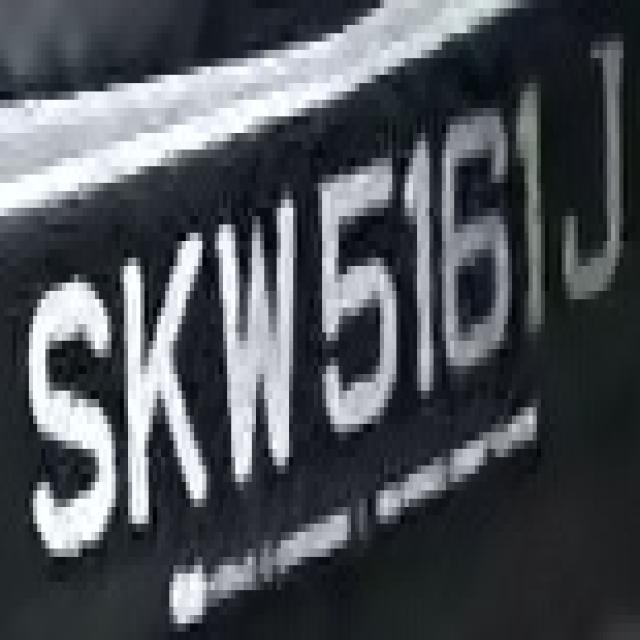1: (504, 41, 553, 382), (392, 83, 438, 441)
5: (310, 116, 400, 458)
6: (430, 100, 516, 390)
J: (553, 33, 632, 341)
K: (116, 183, 214, 565)
S: (29, 224, 111, 607)
W: (194, 158, 306, 490)
